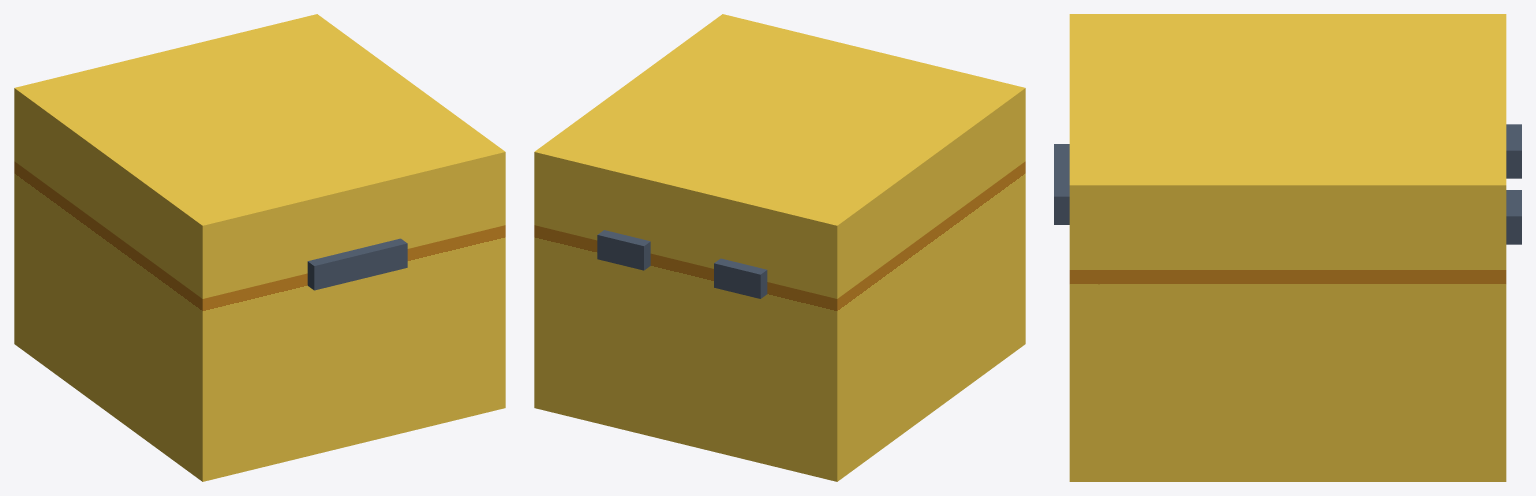
File: Cofre.fbx
The picture shows the model from 3 angles, left to right: view 1: azimuth 30°, elevation 25°; view 2: azimuth 150°, elevation 25°; view 3: azimuth 270°, elevation 25°; orthographic projection. The views are drawn at different scales.
Visible parts, largest first — view 1: cuboid, Cofre, Cerradura; view 2: cuboid, Cofre, Bisagra_1, Bisagra; view 3: cuboid, Cofre, Cerradura, Bisagra, Bisagra_1.
Part boxes in pixels (x1=…): cuboid: x1=14, y1=14, x2=505, y2=298; Cofre: x1=14, y1=161, x2=505, y2=481; Cerradura: x1=307, y1=238, x2=407, y2=290; cuboid: x1=534, y1=14, x2=1025, y2=298; Cofre: x1=534, y1=161, x2=1025, y2=481; Bisagra_1: x1=597, y1=230, x2=650, y2=270; Bisagra: x1=714, y1=258, x2=767, y2=298; cuboid: x1=1069, y1=14, x2=1506, y2=269; Cofre: x1=1069, y1=270, x2=1506, y2=481; Cerradura: x1=1054, y1=144, x2=1069, y2=224; Bisagra: x1=1506, y1=124, x2=1521, y2=178; Bisagra_1: x1=1506, y1=190, x2=1521, y2=244.
Bounding box in the file's own units: 81.25 × 65.62 × 93.75.
5 materials, 5 textured.
